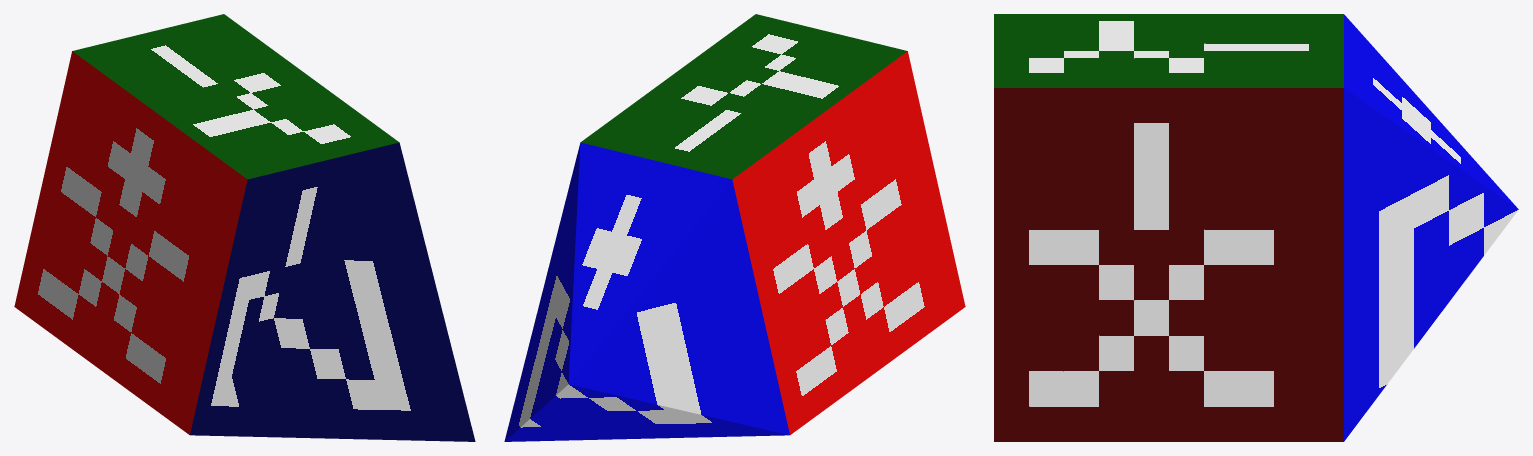
The model's file is cubeaxes2-z-y.obj.
The picture shows the model from 3 angles, left to right: view 1: azimuth 30°, elevation 25°; view 2: azimuth 150°, elevation 25°; view 3: azimuth 270°, elevation 25°; orthographic projection.
Visible parts, largest first — view 1: Cube; view 2: Cube; view 3: Cube.
Boxes of the visible parts, left/top/right/bottom form: Cube: left=14, top=14, right=475, bottom=441; Cube: left=504, top=14, right=965, bottom=441; Cube: left=994, top=14, right=1518, bottom=441.
Bounding box in the file's own units: 0.94 × 1 × 1.5.
Materials: 1 (1 with a texture image).
